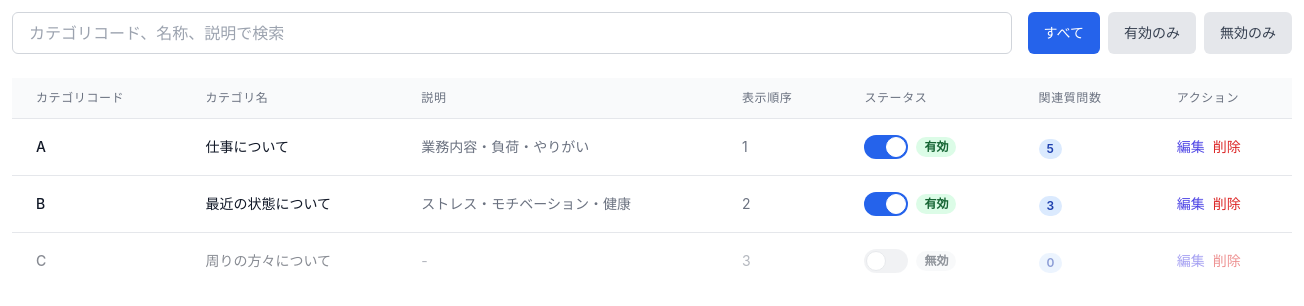
Scenario: CategoryTableWithFilter（統合テスト） › 検索機能 › カテゴリコードで検索できる
The width and height of the screenshot is (1304, 306).
Check: the text "仕事について" is shown, box [181,118,397,176]
Check: the text "最近の状態について" is shown, box [181,176,397,232]
Type "A" into the field with placeholder "カテゴリコード、名称、説明で検索" at (512, 33), box [12,12,1012,54]
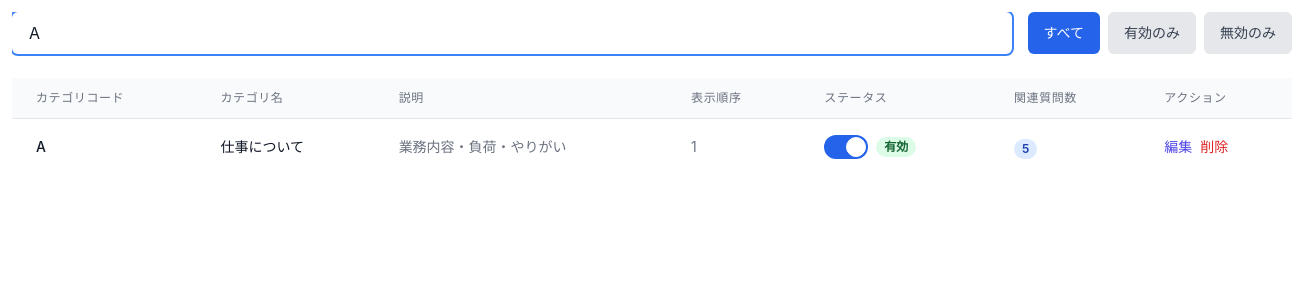
Check: the text "仕事について" is shown, box [196,118,375,175]
Check: the text "最近の状態について" is gone
Check: the text "周りの方々について" is gone
